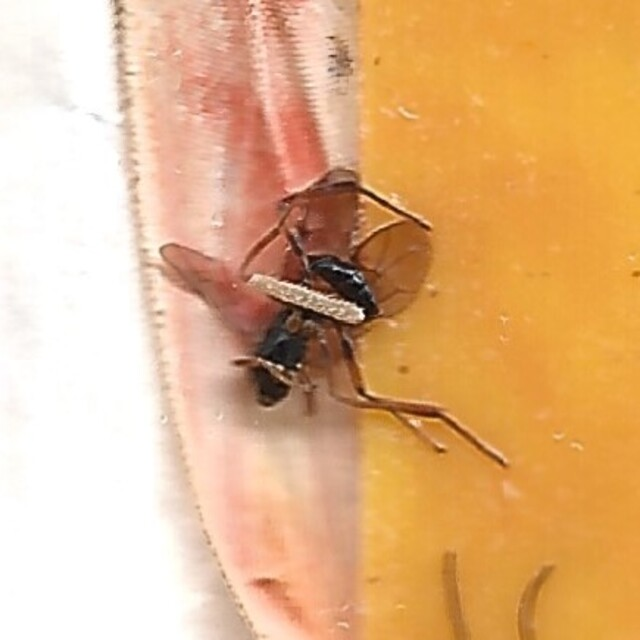Hymenoptera: (147, 167, 493, 473)
